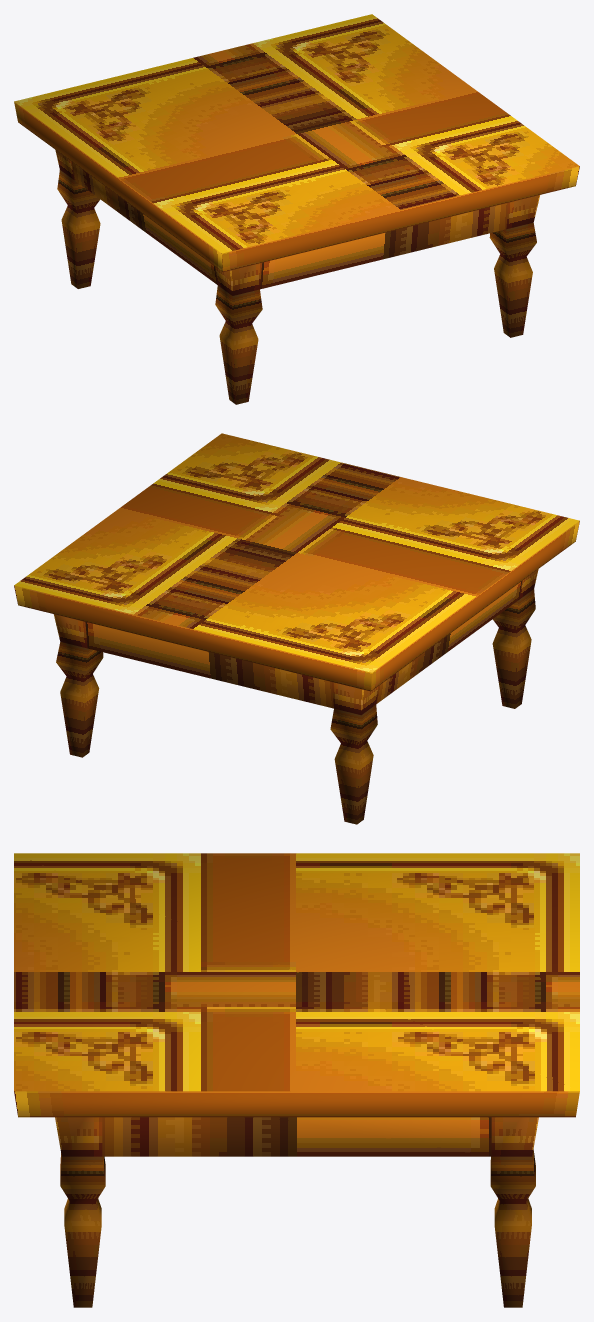
Rendered from rmk_cnt_tableL.dae.
3 renders of one model, top to bottom at view 1: azimuth 30°, elevation 25°; view 2: azimuth 150°, elevation 25°; view 3: azimuth 270°, elevation 25°, orthographic. The views are drawn at different scales.
Visible parts, largest first — view 1: rmk_cnt_tableL; view 2: rmk_cnt_tableL; view 3: rmk_cnt_tableL.
Boxes of the visible parts, left/top/right/bottom form: rmk_cnt_tableL: left=14, top=14, right=579, bottom=404; rmk_cnt_tableL: left=14, top=433, right=579, bottom=824; rmk_cnt_tableL: left=14, top=853, right=579, bottom=1307.
Size of the model in its own units: 51.08 by 24 by 51.34.
1 material, 1 textured.
